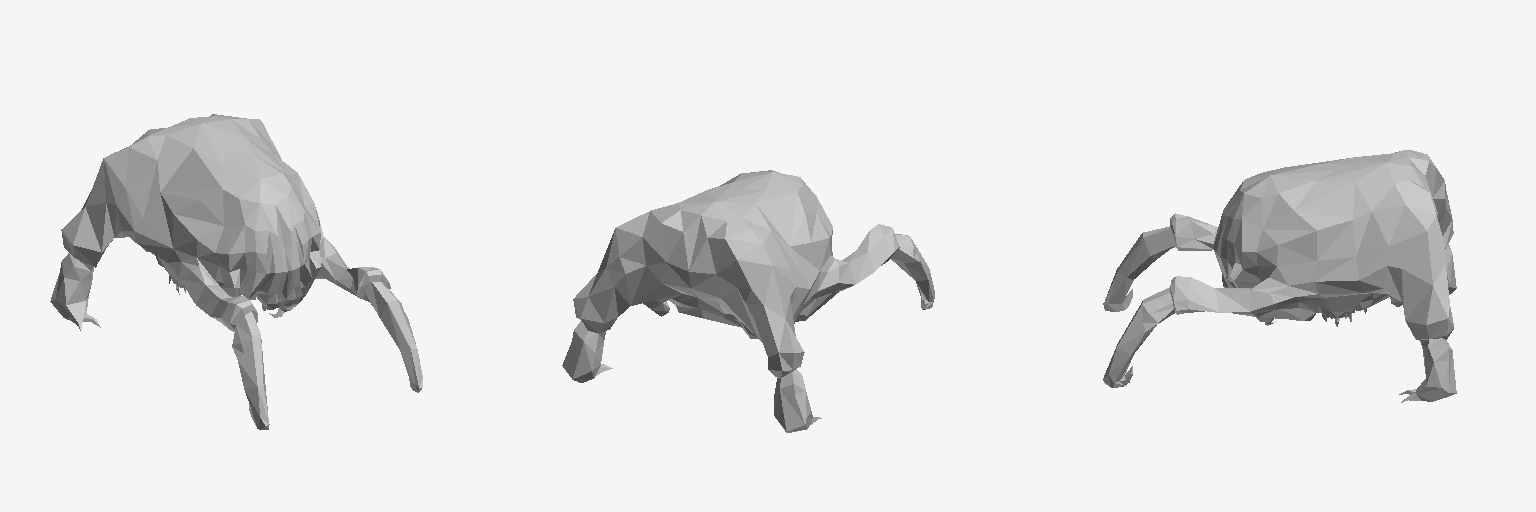
File: headcrab_noskeleton.obj
3 renders of one model, left to right at view 1: azimuth 30°, elevation 25°; view 2: azimuth 150°, elevation 25°; view 3: azimuth 270°, elevation 25°, orthographic.
Visible parts, largest first — view 1: headcrabclassic_reference; view 2: headcrabclassic_reference; view 3: headcrabclassic_reference.
Boxes of the visible parts, x1=… form: headcrabclassic_reference: x1=50, y1=114, x2=422, y2=429; headcrabclassic_reference: x1=562, y1=170, x2=934, y2=432; headcrabclassic_reference: x1=1103, y1=150, x2=1456, y2=402.
Size of the model in its own units: 20.36 by 14.94 by 25.66.